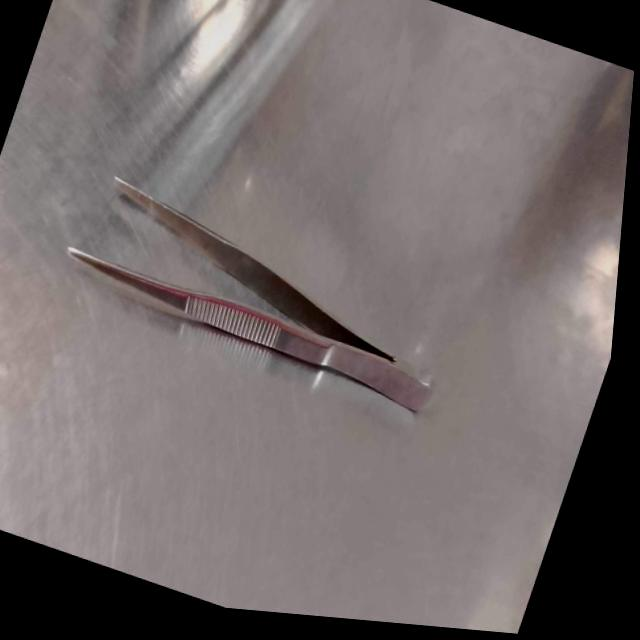Pathological: (2, 1, 637, 635)
Sharps: (67, 244, 434, 413), (113, 174, 399, 365)
